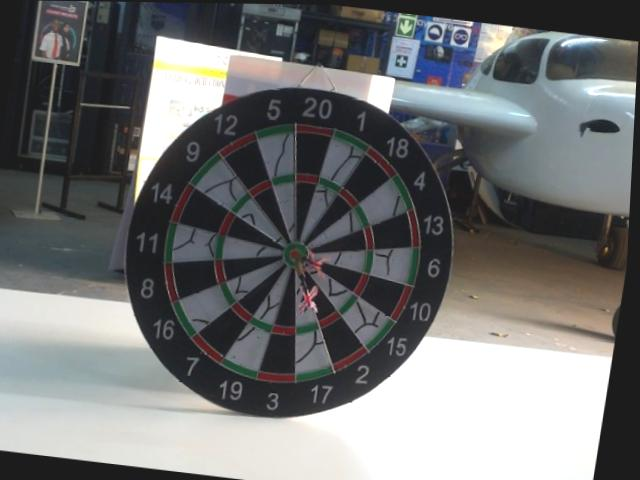bullseye: (292, 252, 306, 262)
